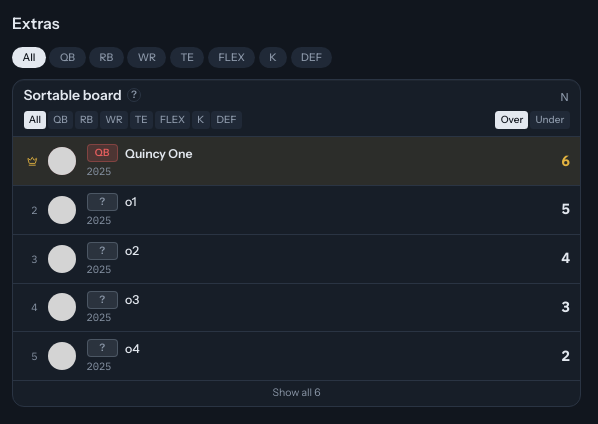
Test: Section › passes the direction to a sortable board
Expected: the list item "2 ? o1 2025 5" is shown, [13,186,580,235]
Click the button "Under": (550,120) [530,111,570,129]
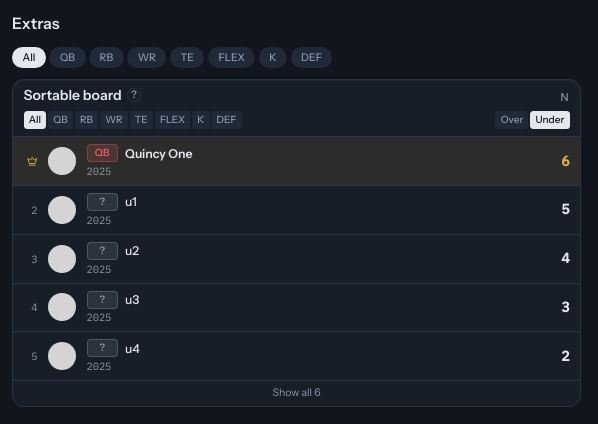
Expected: the list item "2 ? u1 2025 5" is shown, [13,186,580,235]
